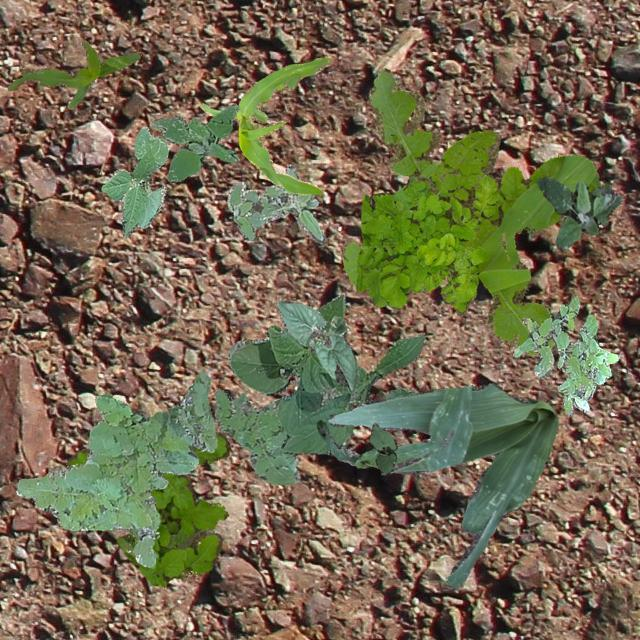crop: (328, 382, 558, 588), (226, 294, 424, 454), (200, 56, 332, 194), (6, 38, 140, 108), (100, 125, 168, 236), (276, 300, 358, 390), (316, 418, 452, 466), (368, 422, 396, 474)
weed: (341, 66, 598, 354), (15, 370, 216, 566), (66, 432, 230, 586), (356, 170, 498, 314), (512, 294, 618, 414), (212, 388, 300, 483), (226, 164, 324, 242), (150, 102, 238, 182), (536, 176, 622, 248)
